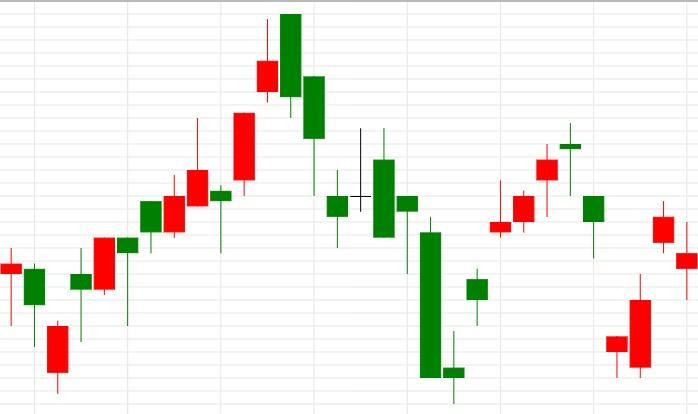bearish_engulfing_fall: (164, 14, 301, 252)
evening_star_fall: (443, 122, 605, 404)
